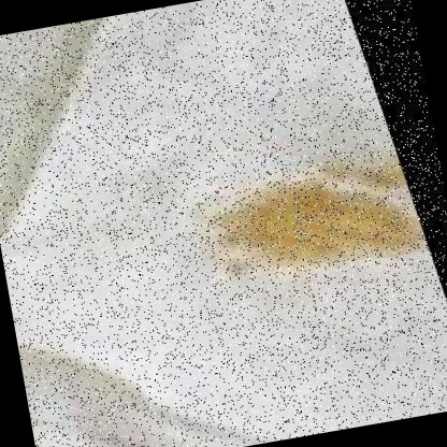coffee: (217, 153, 431, 295)
